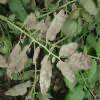Tomato mold leaf: (8, 1, 26, 21), (61, 21, 81, 39), (81, 0, 97, 15), (82, 13, 96, 26)
